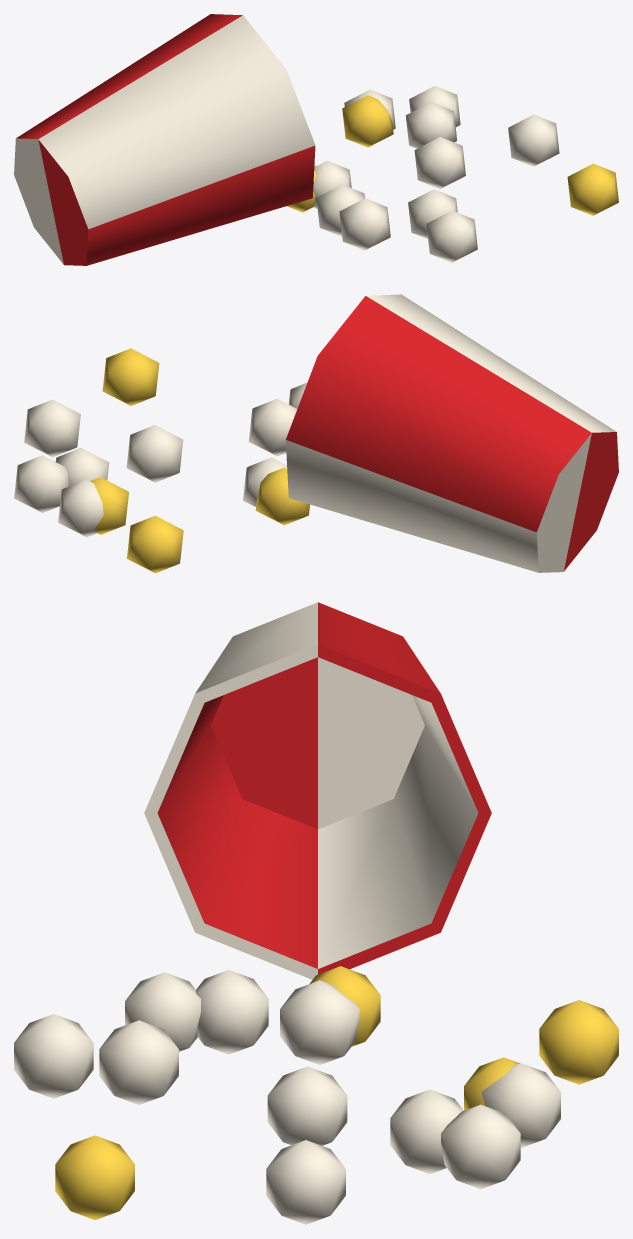
The model's file is PopcornSpill.fbx.
3 views of the same model, one above another, from view 1: azimuth 30°, elevation 25°; view 2: azimuth 150°, elevation 25°; view 3: azimuth 270°, elevation 25° (orthographic). The views are drawn at different scales.
Parts seen in each view (by area): view 1: PopcornSpill; view 2: PopcornSpill; view 3: PopcornSpill.
Boxes of the visible parts, x1,y1,x2,y2 form: PopcornSpill: (14, 14, 618, 265); PopcornSpill: (14, 294, 618, 573); PopcornSpill: (14, 602, 618, 1224).
Bounding box in the file's own units: 0.7181 × 0.2922 × 0.4523.
Materials: 1 (1 with a texture image).
